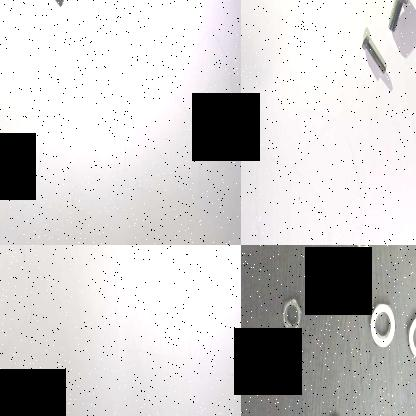Bolts: (359, 26, 387, 84), (384, 0, 412, 40), (37, 0, 65, 13)
NUTS: (367, 298, 397, 354), (308, 250, 340, 300), (278, 295, 306, 339), (406, 310, 416, 364), (349, 245, 377, 256)
